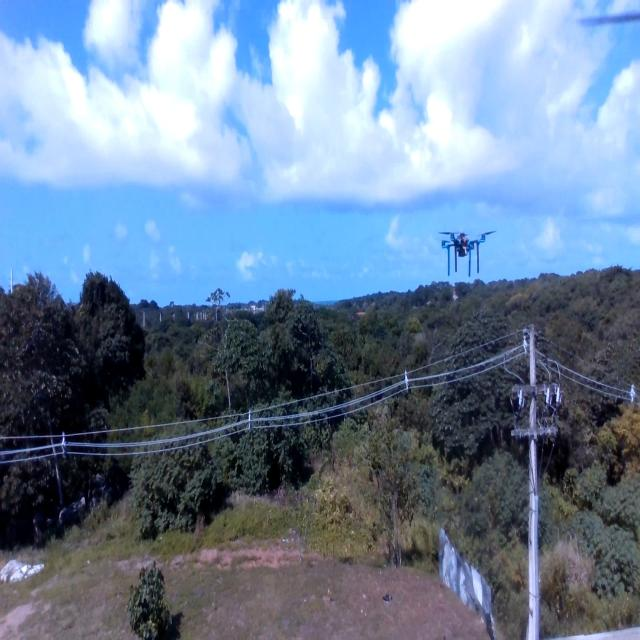-uav-: (432, 215, 499, 302)
